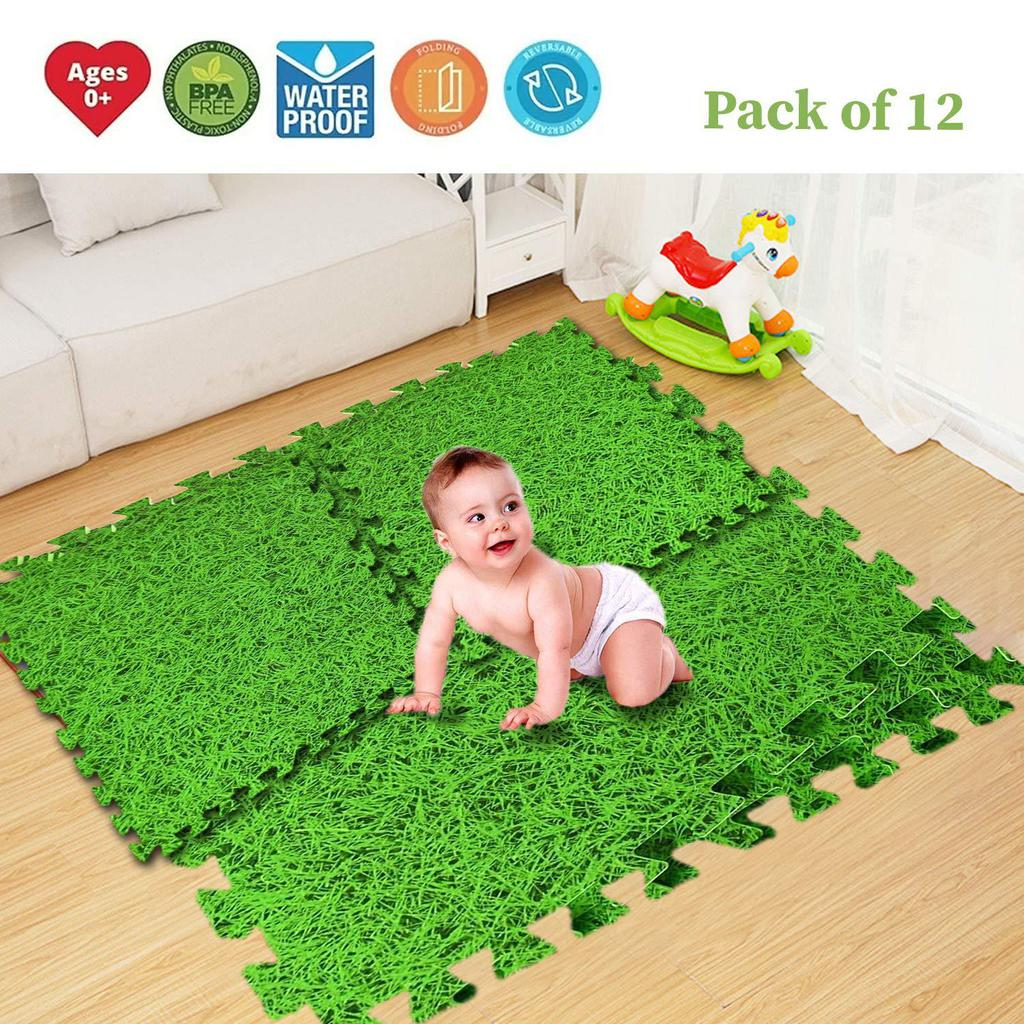child: (385, 442, 696, 734)
